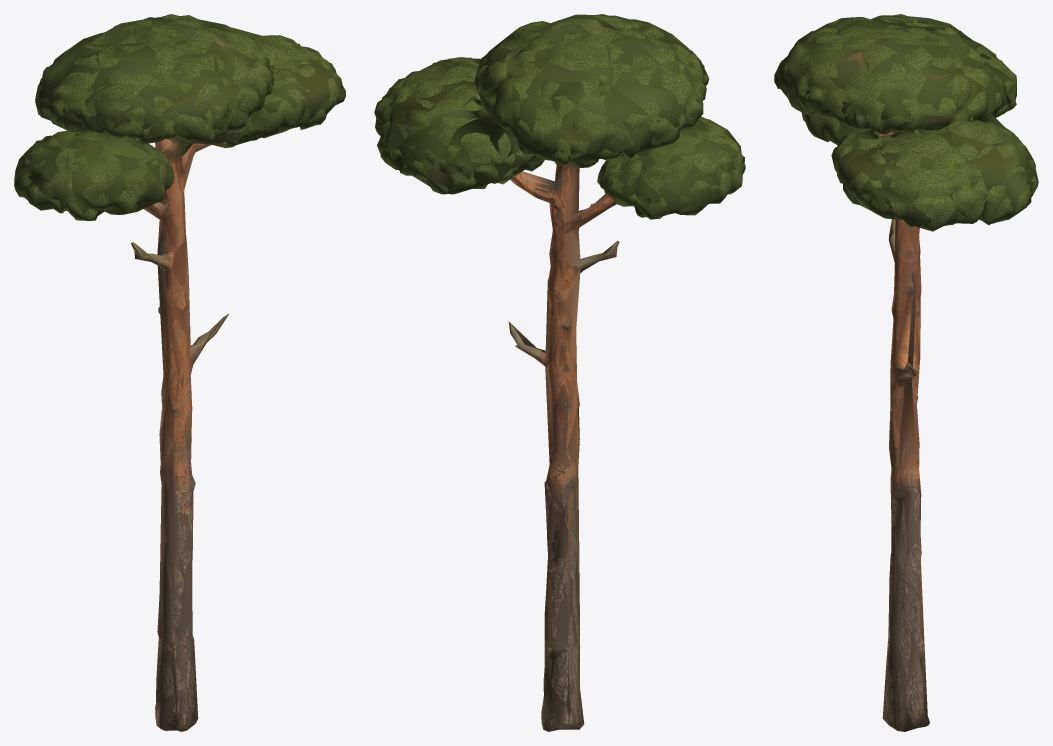
File: pino.glb
3 views of the same model, side by side, from view 1: azimuth 30°, elevation 25°; view 2: azimuth 150°, elevation 25°; view 3: azimuth 270°, elevation 25° (orthographic). The views are drawn at different scales.
Visible parts, largest first — view 1: cerca, medio, lejos; view 2: cerca, medio, lejos; view 3: cerca, medio, lejos.
Part boxes in pixels (bbox=[...]): cerca: bbox=[14, 14, 345, 731]; medio: bbox=[16, 16, 343, 731]; lejos: bbox=[14, 16, 340, 728]; cerca: bbox=[374, 14, 745, 731]; medio: bbox=[375, 14, 741, 730]; lejos: bbox=[387, 15, 733, 727]; cerca: bbox=[774, 14, 1038, 731]; medio: bbox=[777, 16, 1038, 731]; lejos: bbox=[791, 19, 1038, 724].
Bounding box in the file's own units: 4.73 × 9.5 × 3.33.
Materials: 2 (1 with a texture image).
